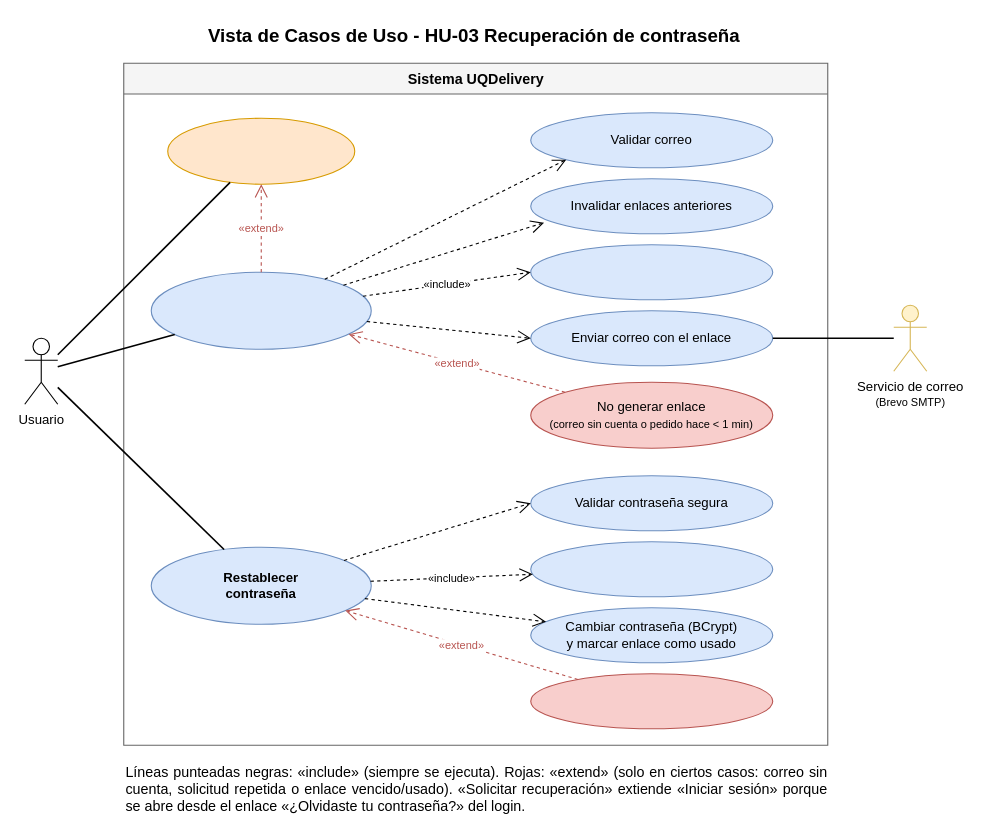
Image size: 982x834. Some labels were removed from this diagram. Each missing label, with the centre of its shape:
Generar enlace (token de 30 minutos): the point at 651,272
Iniciar sesión (HU-01): the point at 261,150
Rechazar enlace vencido o usado: the point at 651,701
Solicitar recuperación de contraseña: the point at 260,310
Validar enlace (vigente y sin usar): the point at 651,569
